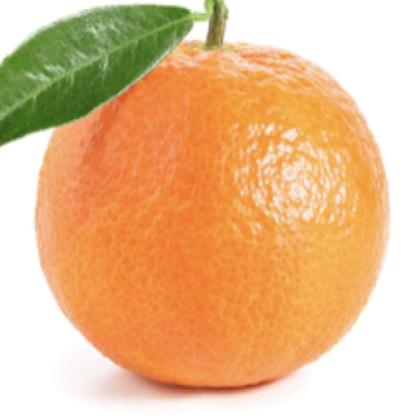fresh: (37, 30, 390, 393)
